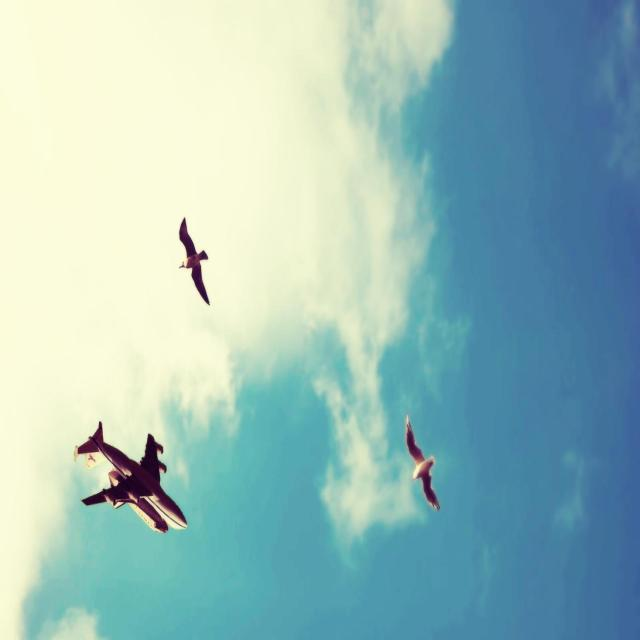airplane: (73, 420, 188, 533)
